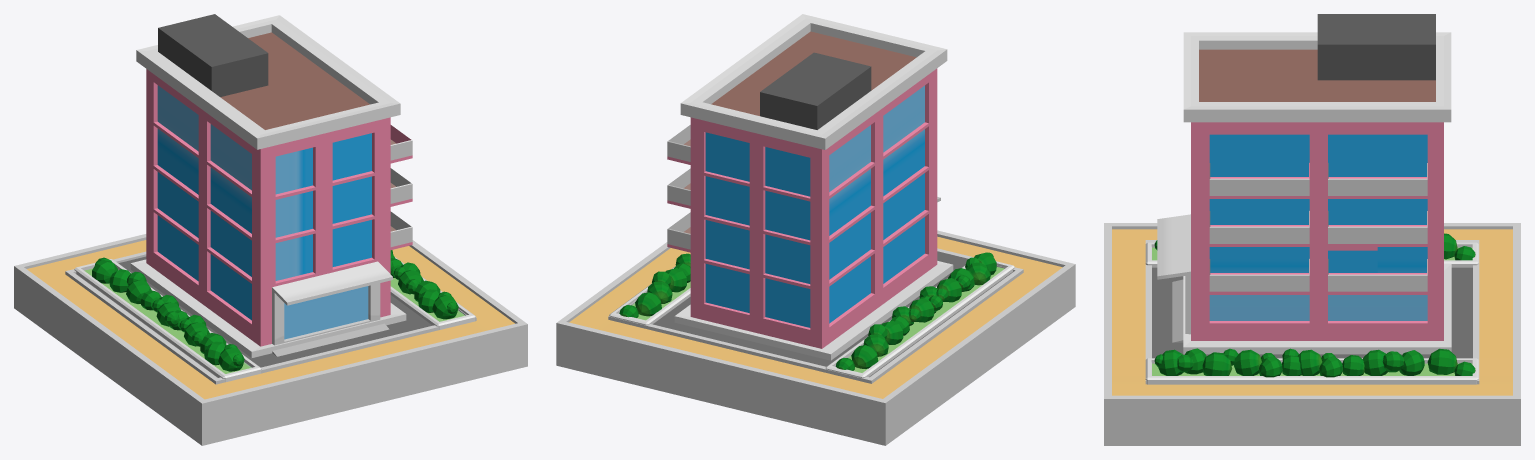
File: house3.fbx
3 renders of one model, left to right at view 1: azimuth 30°, elevation 25°; view 2: azimuth 150°, elevation 25°; view 3: azimuth 270°, elevation 25°, orthographic. The views are drawn at different scales.
Parts seen in each view (by area): view 1: House4; view 2: House4; view 3: House4.
Boxes of the visible parts, x1,y1,x2,y2 form: House4: [14, 14, 527, 445]; House4: [556, 14, 1075, 445]; House4: [1104, 14, 1520, 445].
Size of the model in its own units: 200 by 166 by 200.
Materials: 1 (1 with a texture image).
